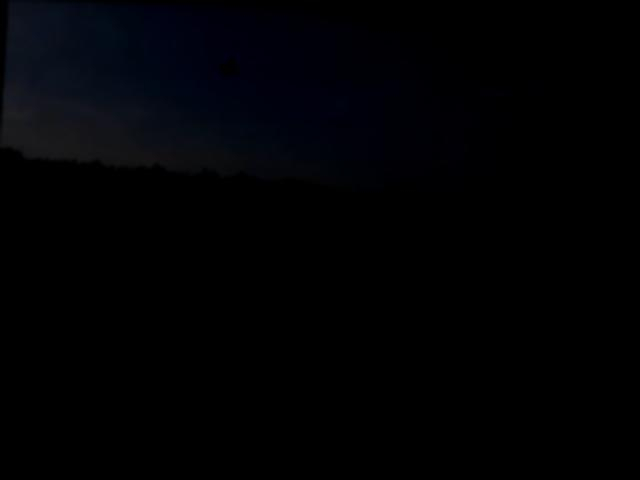iha: (210, 54, 244, 79)
